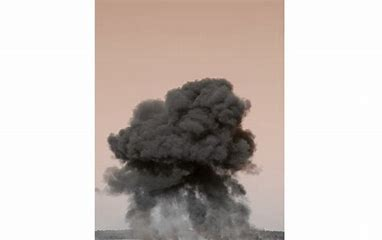smoke: (102, 76, 257, 234)
